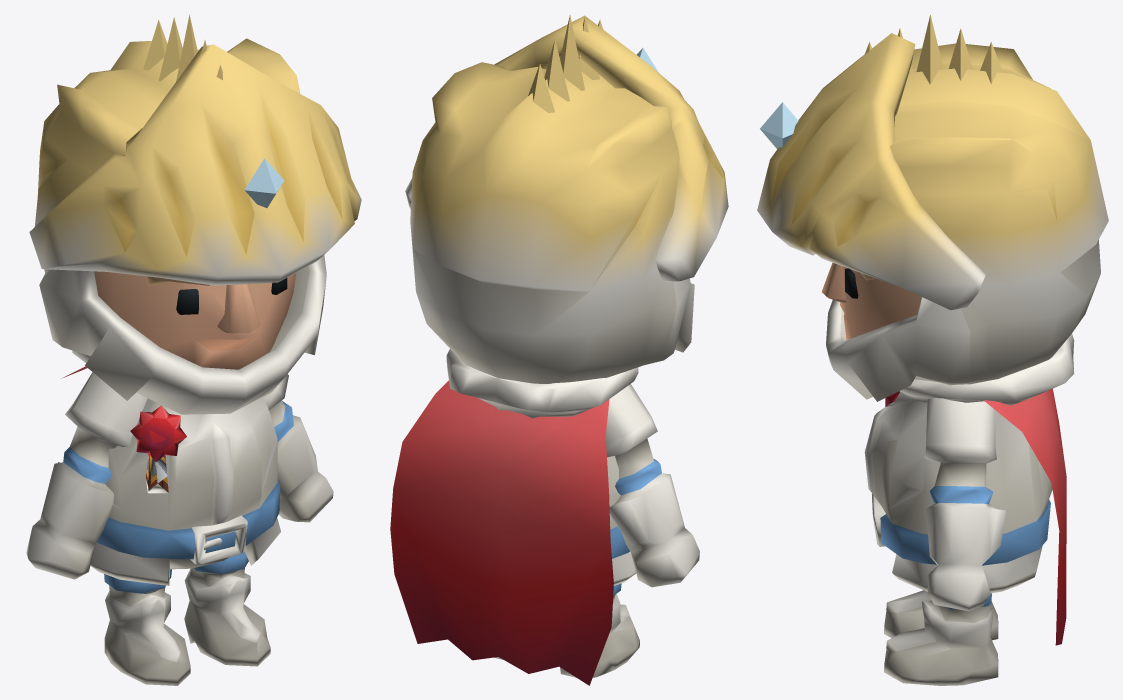
Rendered from hero-paladin.glb.
3 renders of one model, left to right at view 1: azimuth 30°, elevation 25°; view 2: azimuth 150°, elevation 25°; view 3: azimuth 270°, elevation 25°, orthographic. The views are drawn at different scales.
Parts seen in each view (by area): view 1: hero:paladin; view 2: hero:paladin; view 3: hero:paladin.
Part boxes in pixels (<box>): hero:paladin: <box>26,14,361,685</box>; hero:paladin: <box>390,14,728,685</box>; hero:paladin: <box>757,14,1108,685</box>.
Size of the model in its own units: 0.6539 by 1.39 by 0.6942.
1 material, 1 textured.
